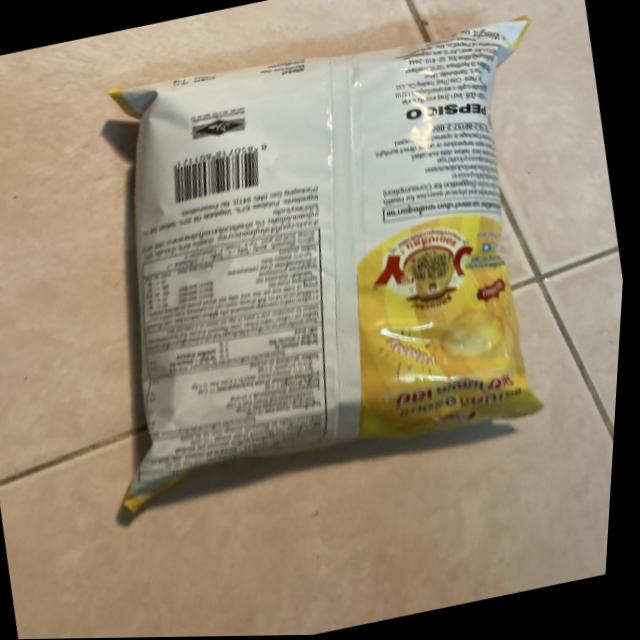LayYellow: (66, 0, 582, 508)
